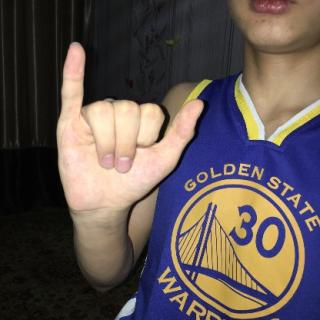YA: (54, 41, 212, 223)
